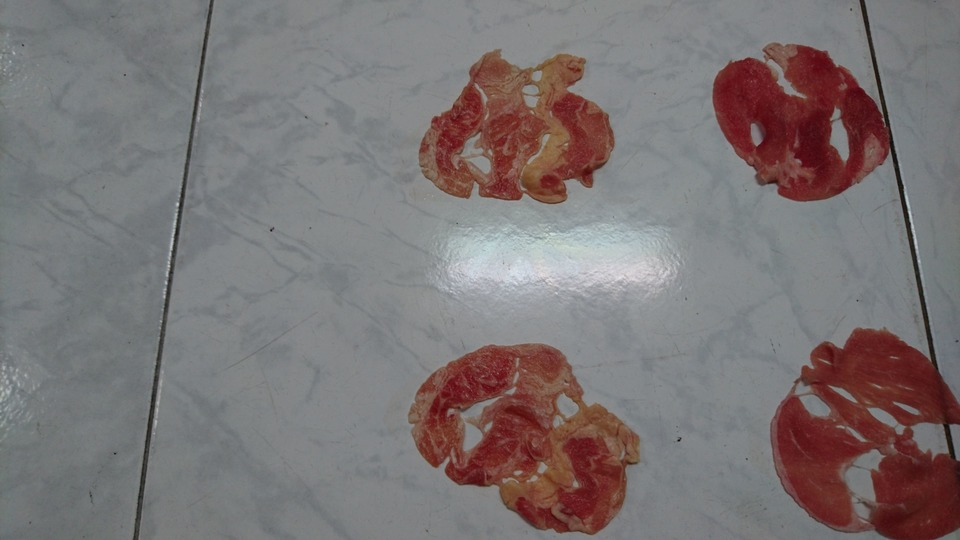restructured meat: (408, 341, 644, 532), (764, 308, 955, 533), (391, 48, 633, 205), (706, 38, 900, 202)
